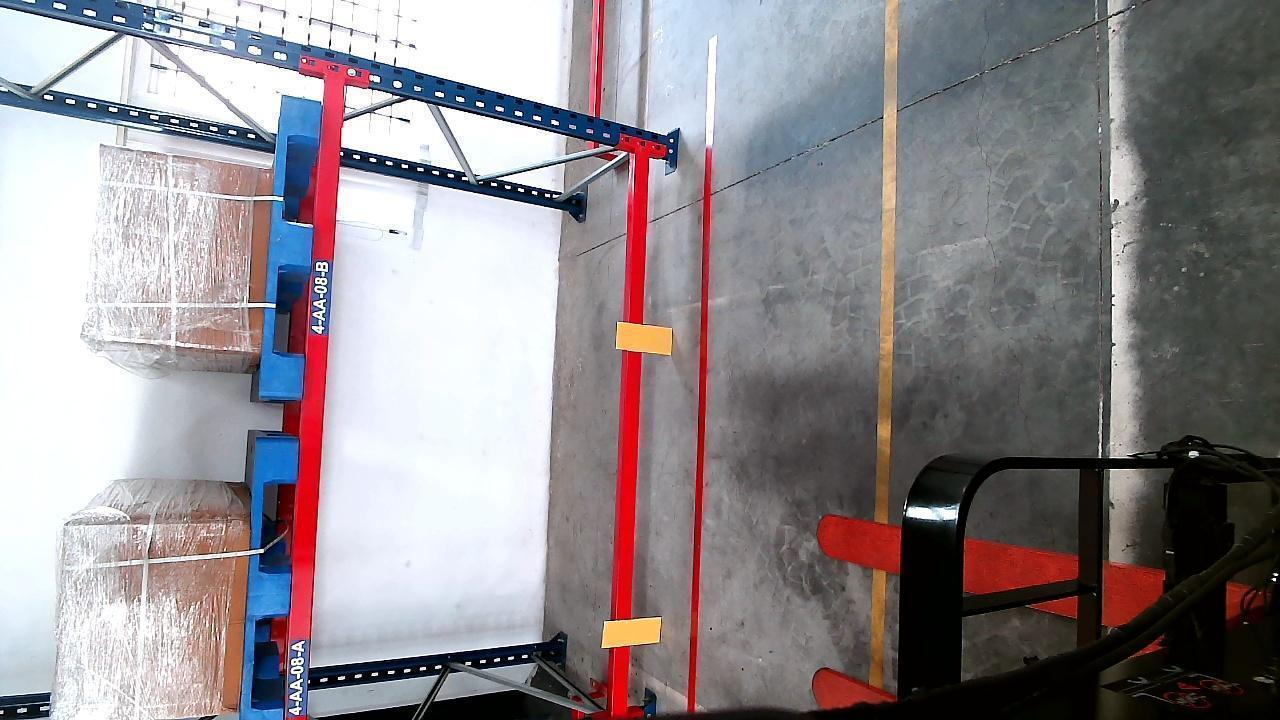red_line: (683, 110, 718, 707)
yellow_line: (869, 0, 902, 693)
